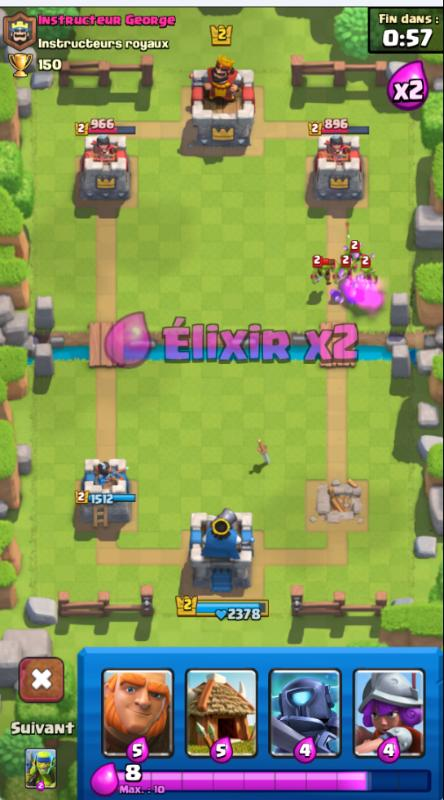gobelin: (354, 254, 379, 295), (308, 254, 337, 288), (347, 240, 363, 269), (336, 256, 352, 284)
